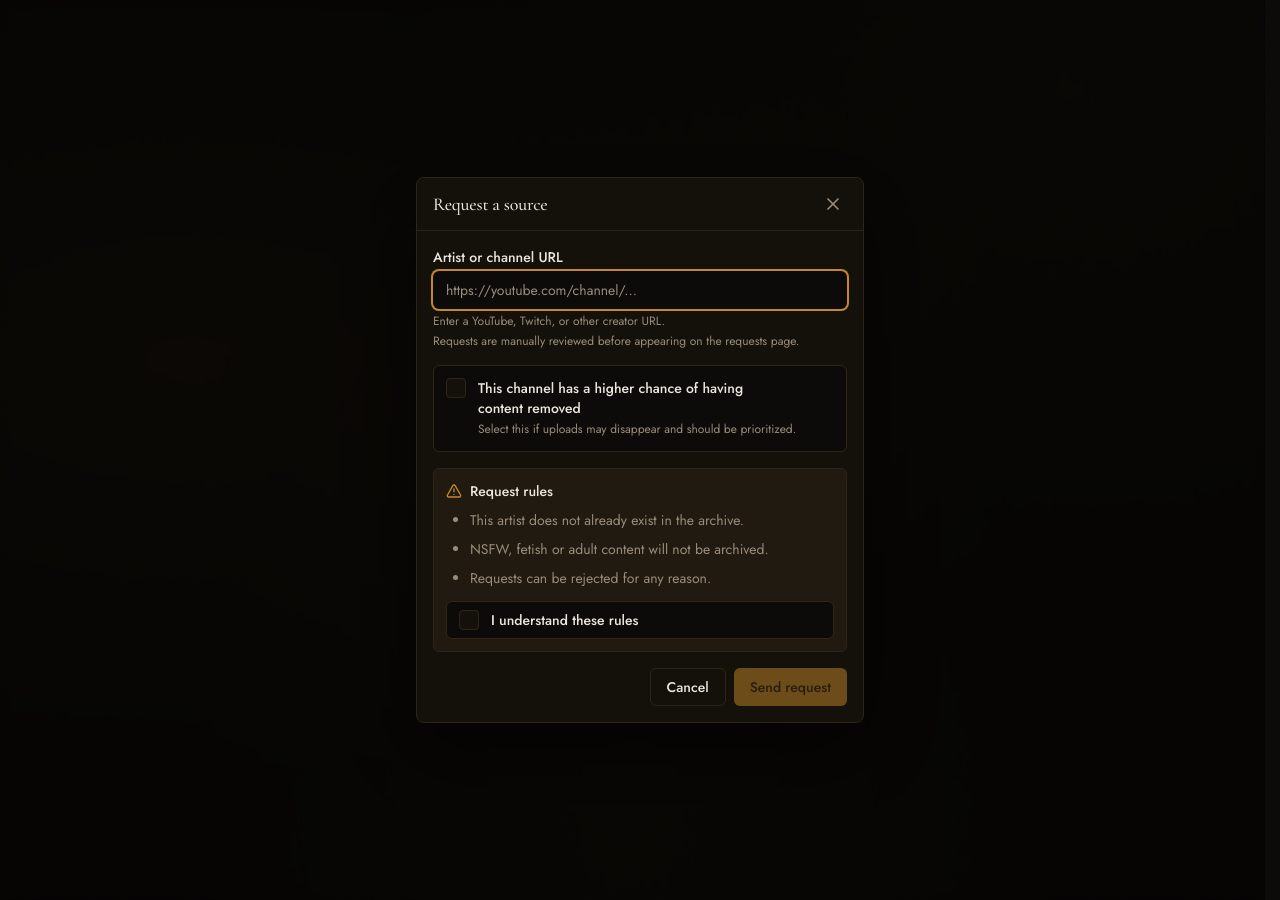
RequestSourceDialog › warns when the request was sent for an unsupported platform
The width and height of the screenshot is (1280, 900).
Type "https://example.com/creator" into the field labelled "Artist or channel URL" at (640, 290), box 433,271 -> 847,309
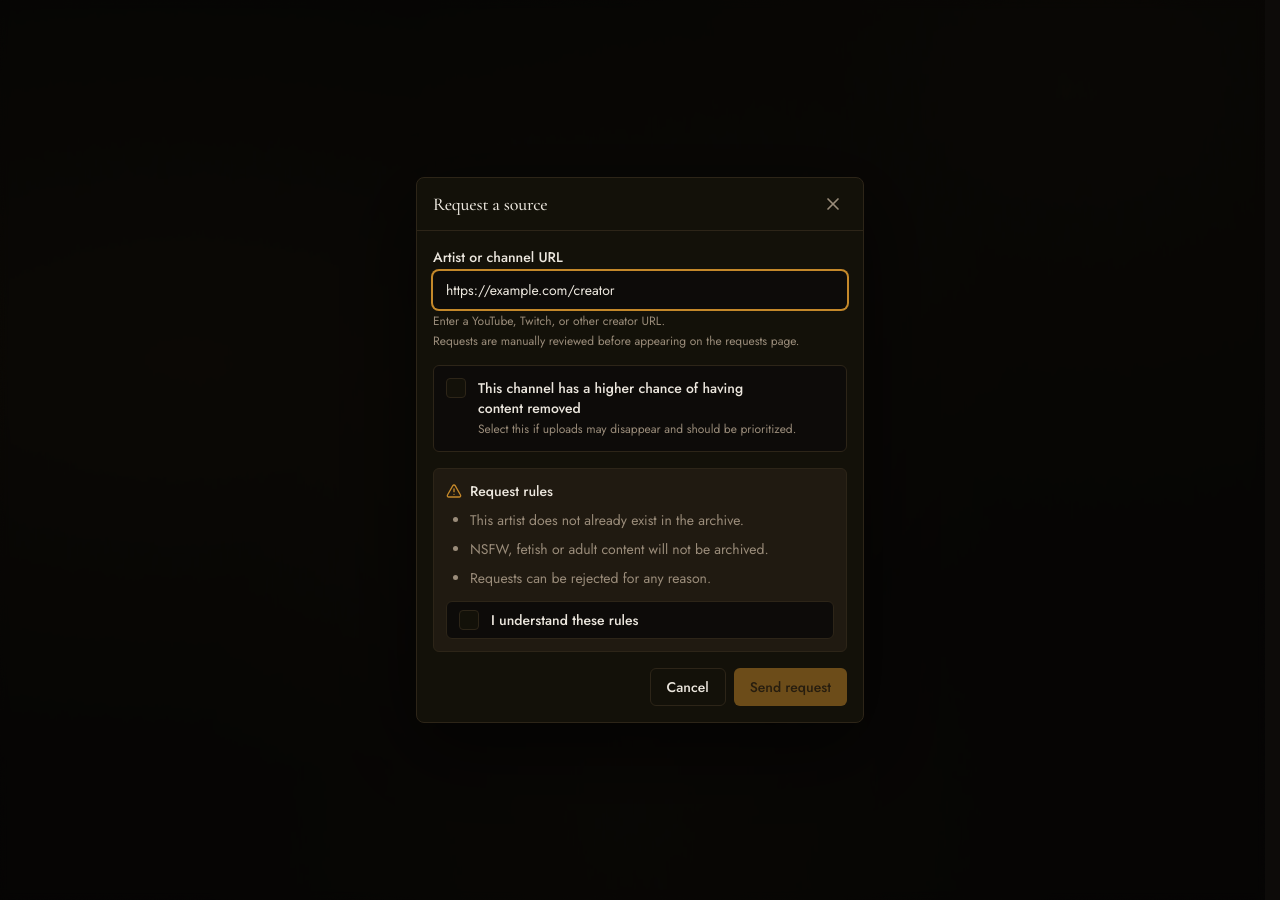
Click the text "I understand these rules" at (565, 620), box 491,610 -> 638,630
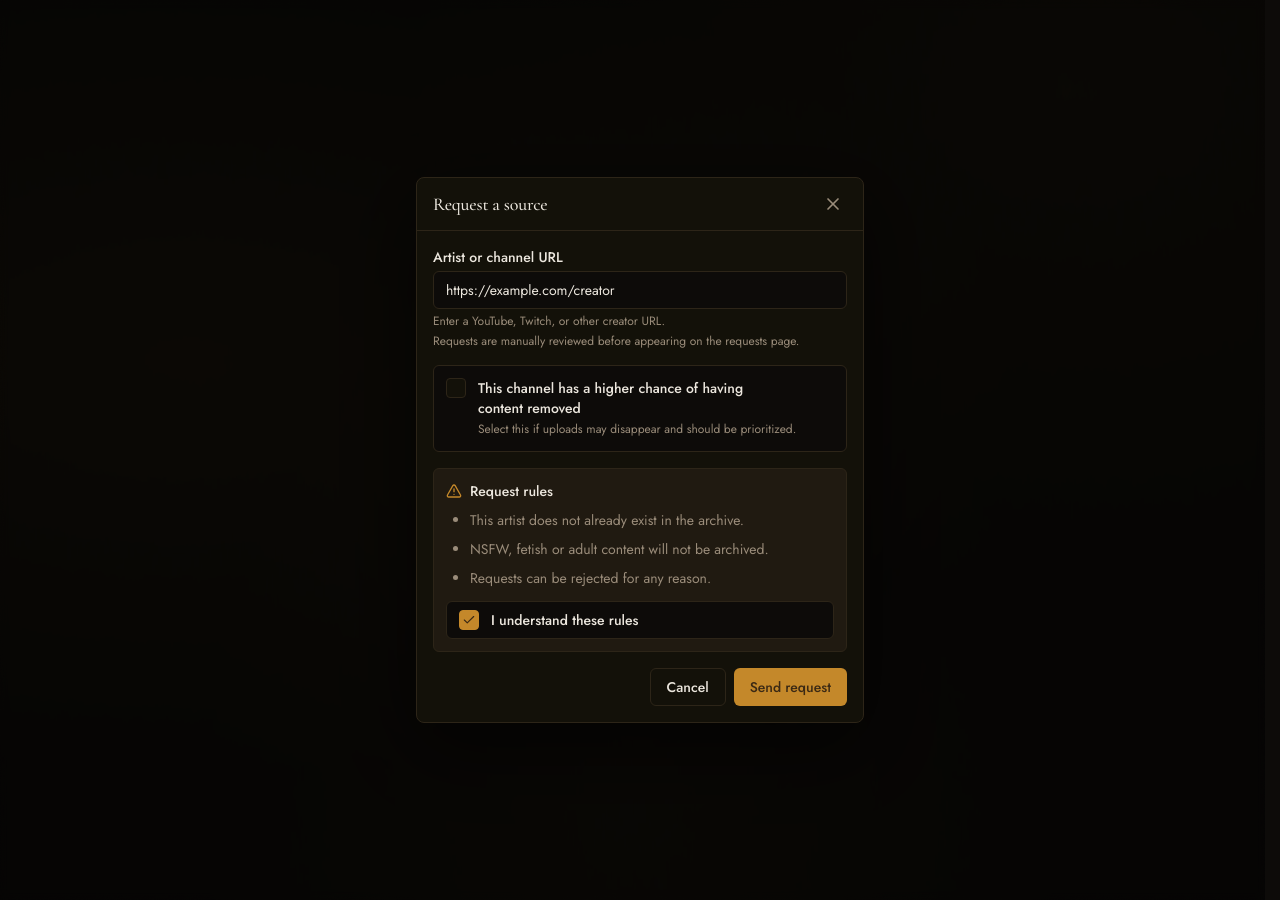
Click the button "Send request" at (790, 687), box 734,668 -> 847,706
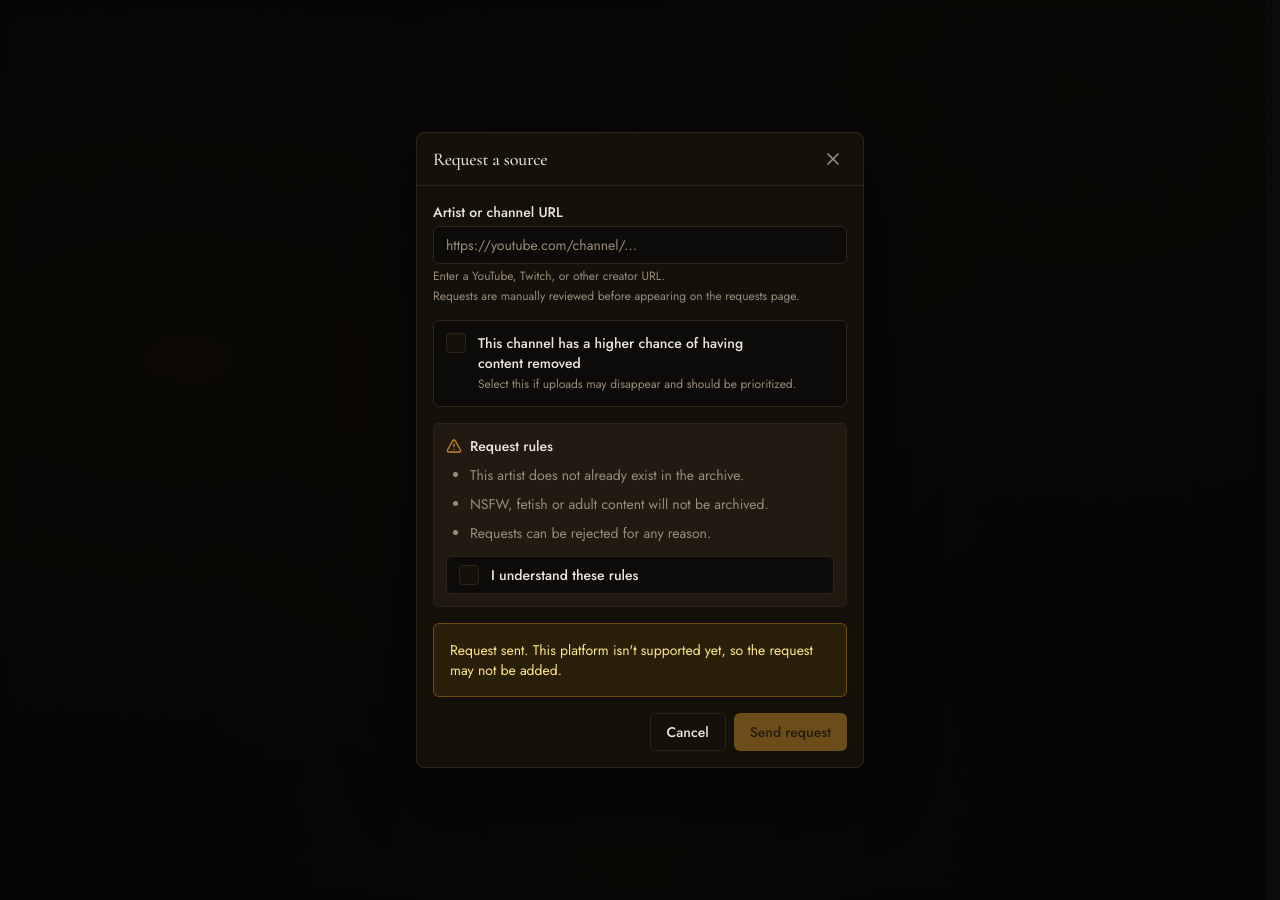
Check: the text "Request sent. This platform isn't supported yet, so the request may not be added." is shown, box 450,640 -> 813,680
